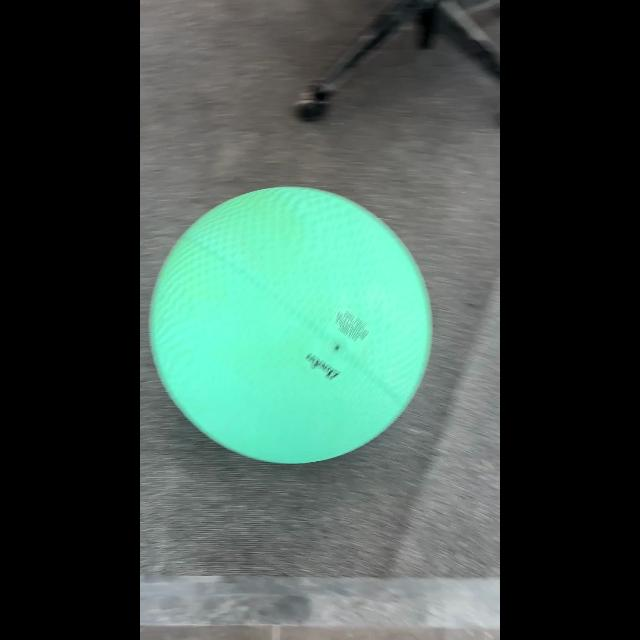ALGAE: (148, 185, 434, 465)
